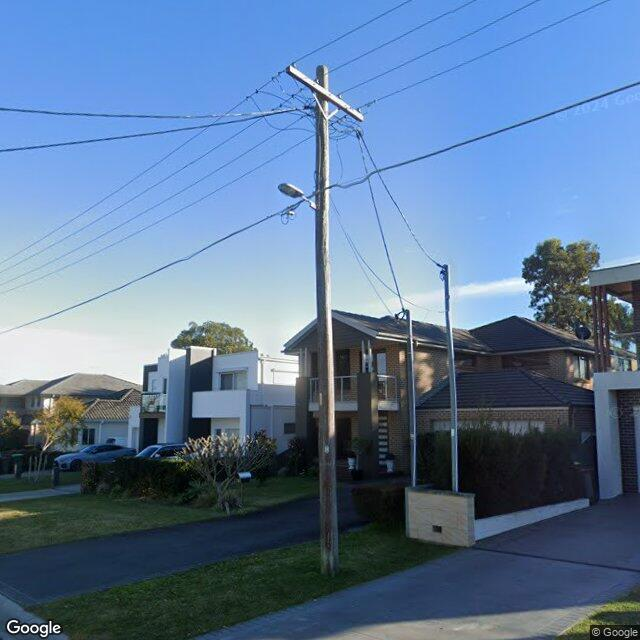crossarm: (284, 63, 365, 123)
steel-pole: (442, 263, 460, 493), (404, 308, 418, 490)
streetlight: (276, 182, 318, 212)
timber-pole: (314, 64, 339, 578)
